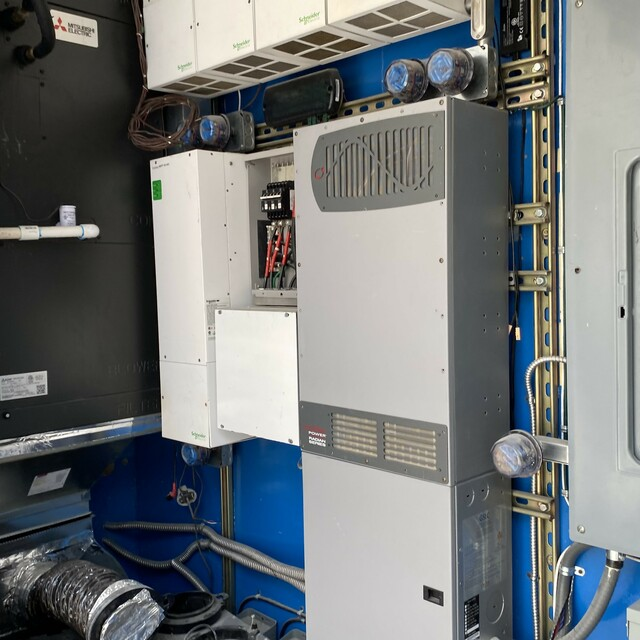inverter: (290, 82, 530, 640)
